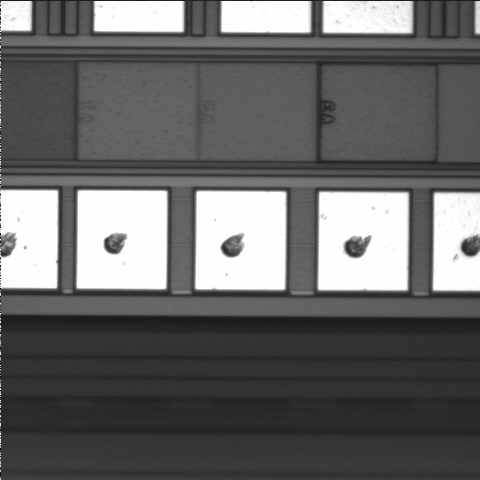pad: (195, 191, 286, 290), (77, 190, 167, 289), (318, 192, 408, 290)
